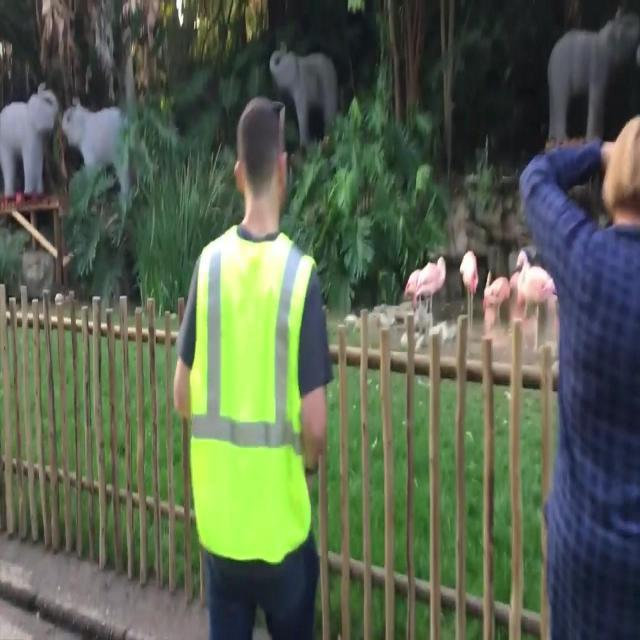reflective_jacket: (183, 224, 323, 566)
